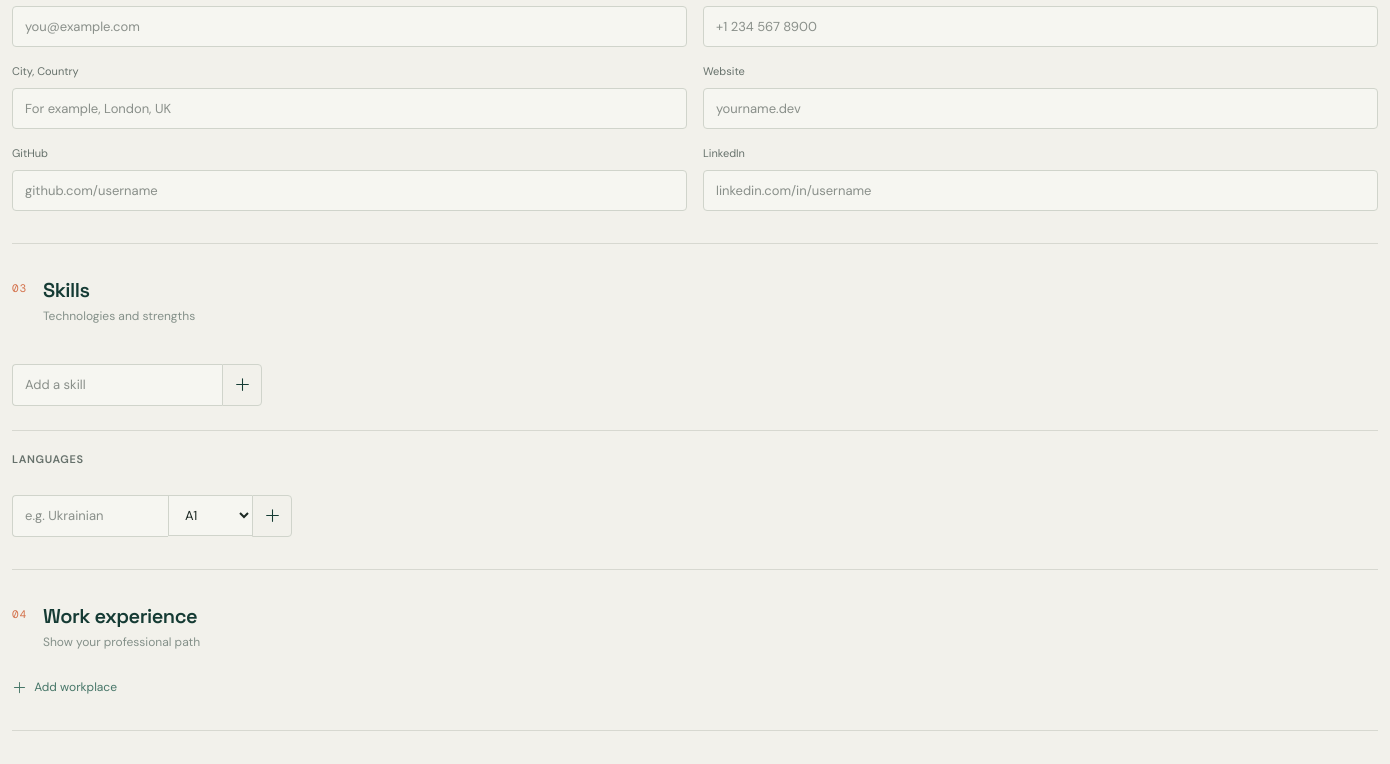
ResumeForm - skills › adds a typed skill that has no icon suggestion on submit
(page scrolled)
Type "Leadership" into the field with placeholder "Add a skill".
click(117, 385); type("Leadership")  # box x1=12 y1=364 x2=222 y2=406
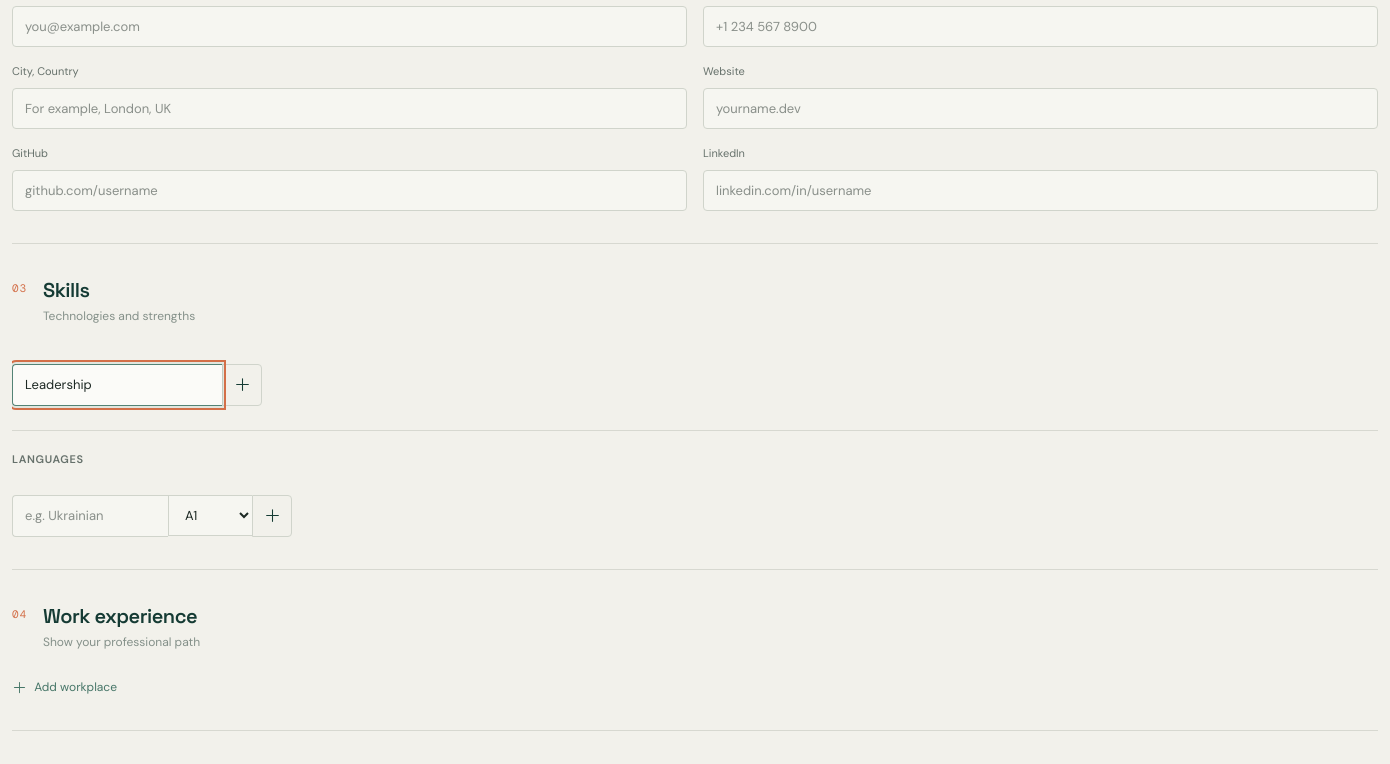
Click the button named "Add a skill".
click(242, 385)  # box x1=222 y1=364 x2=262 y2=406
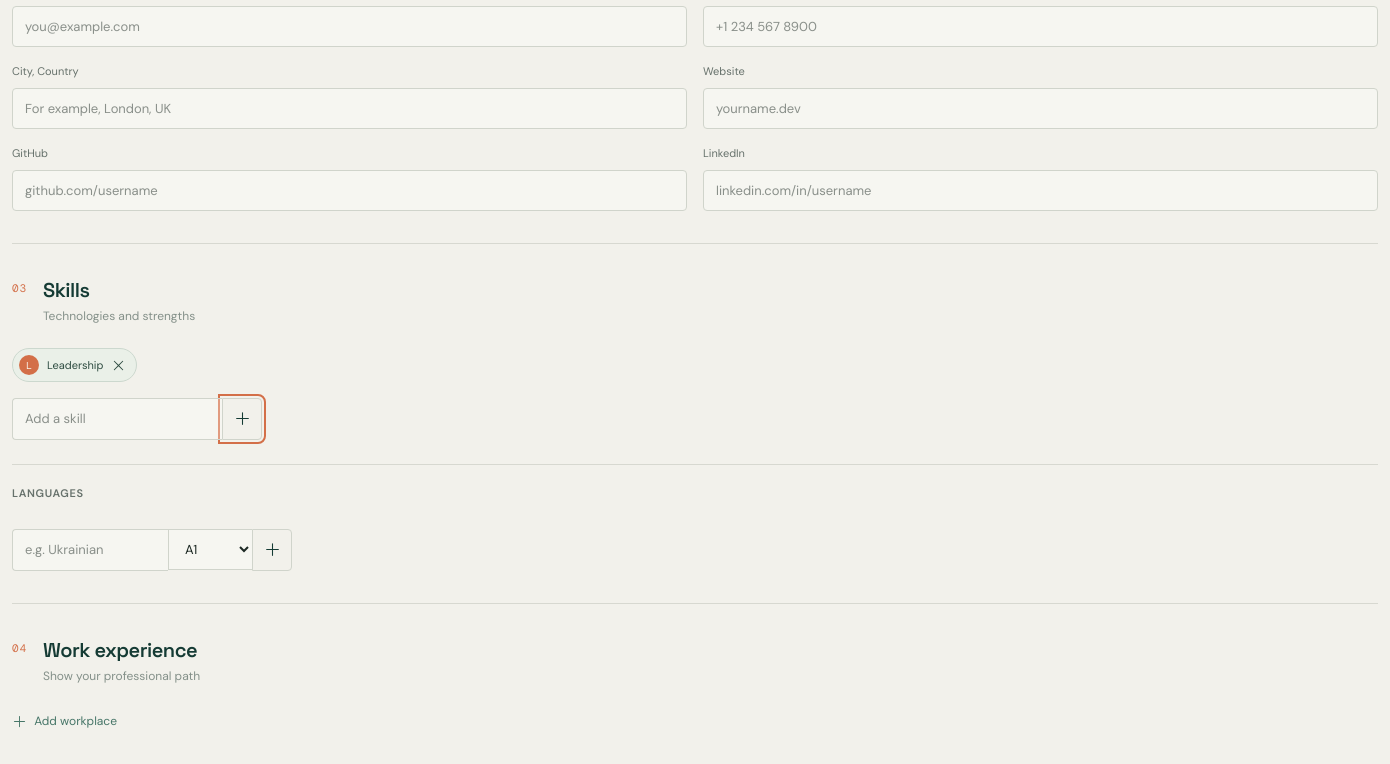
expect the text "Leadership" is shown: met, box x1=47 y1=358 x2=103 y2=372
expect the field with placeholder "Add a skill" is empty: met, box x1=12 y1=398 x2=222 y2=440
